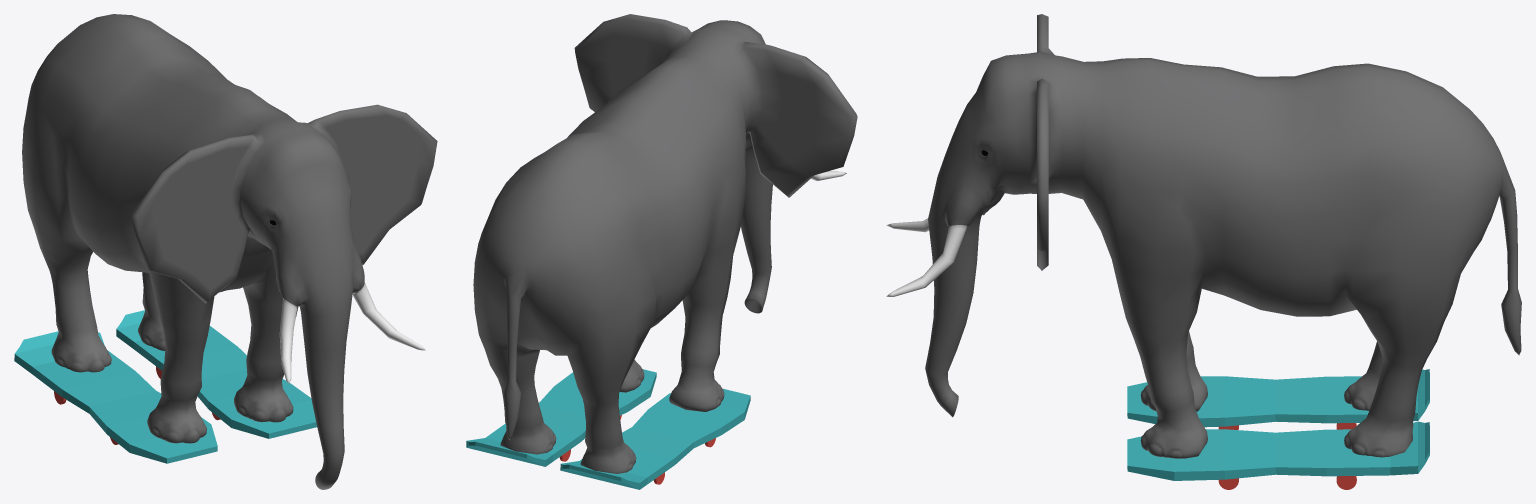
File: Elefante.fbx
3 renders of one model, left to right at view 1: azimuth 30°, elevation 25°; view 2: azimuth 150°, elevation 25°; view 3: azimuth 270°, elevation 25°, orthographic. The views are drawn at different scales.
Parts seen in each view (by area): view 1: Elephant_Body.002, Cube.001; view 2: Elephant_Body.002, Cube.001; view 3: Elephant_Body.002, Cube.001.
Part boxes in pixels (left/top/right/bottom): Elephant_Body.002: left=22, top=14, right=437, bottom=489; Cube.001: left=14, top=310, right=316, bottom=463; Elephant_Body.002: left=473, top=14, right=857, bottom=473; Cube.001: left=466, top=369, right=750, bottom=489; Elephant_Body.002: left=886, top=14, right=1521, bottom=458; Cube.001: left=1127, top=369, right=1429, bottom=489.
Bounding box in the file's own units: 426 × 485 × 719.
